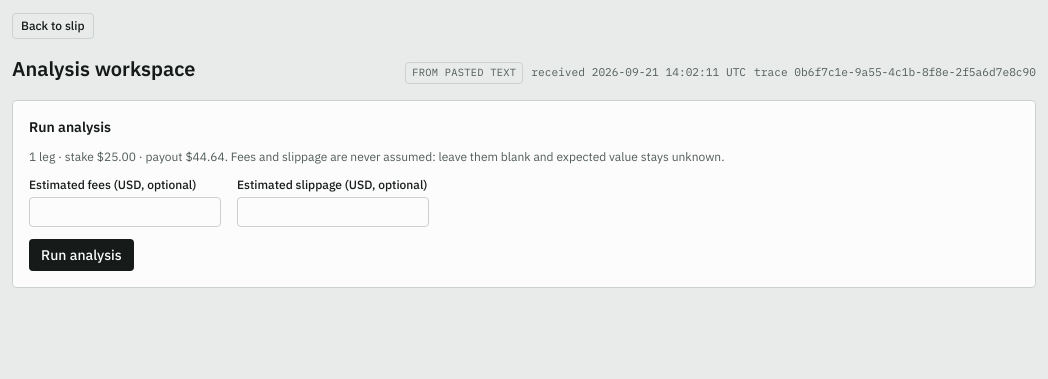
Test: refused analysis shows the server message
Click the button "Run analysis" at (81, 255), box [29,239,134,271]
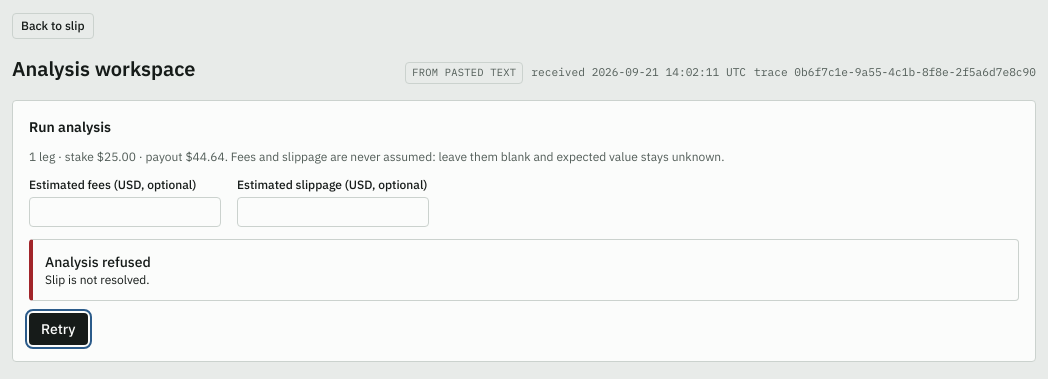
Expected: the message shows "Analysis refused", [45,253,151,271]
Expected: the message shows "Slip is not resolved", [45,272,150,287]
